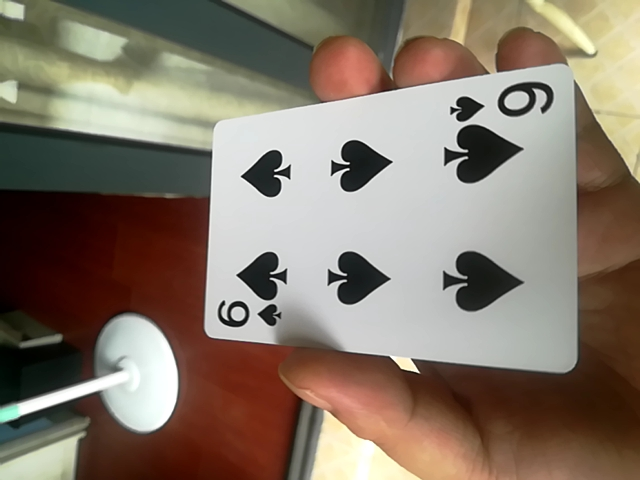ht 6: (203, 61, 596, 381)
